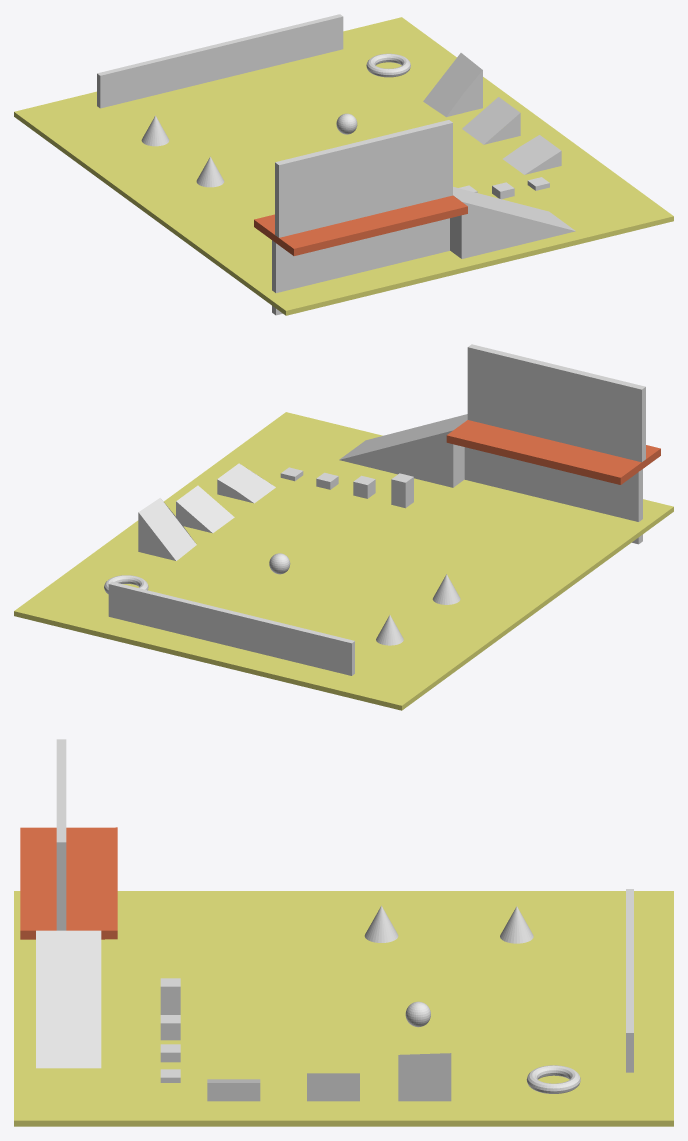
File: testingmap1.fbx
The picture shows the model from 3 angles, top to bottom: view 1: azimuth 30°, elevation 25°; view 2: azimuth 150°, elevation 25°; view 3: azimuth 270°, elevation 25°; orthographic projection. The views are drawn at different scales.
Visible parts, largest first — view 1: Cube, Cube.012, Cube.001, Cube.009, Cube.011, Cube.010, Cube.002, Cube.003, Cube.004, Torus, Cone.001, Cone; view 2: Cube, Cube.012, Cube.001, Cube.009, Cube.010, Cube.011, Cube.002, Cube.003, Cube.004, Cube.008; view 3: Cube, Cube.010, Cube.011, Cube.002, Cube.012, Cube.003, Cube.001, Cube.004, Torus, Cube.008, Cone, Cone.001.
Part boxes in pixels (<box>): Cube: <box>14,17,673,315</box>; Cube.012: <box>275,120,452,237</box>; Cube.001: <box>97,14,343,108</box>; Cube.009: <box>272,218,449,315</box>; Cube.011: <box>450,187,575,258</box>; Cube.010: <box>254,195,467,255</box>; Cube.002: <box>423,53,482,117</box>; Cube.003: <box>462,97,520,144</box>; Cube.004: <box>503,135,561,174</box>; Torus: <box>366,53,410,77</box>; Cone.001: <box>196,156,224,187</box>; Cone: <box>141,115,169,146</box>; Cube: <box>14,412,673,710</box>; Cube.012: <box>467,344,645,462</box>; Cube.001: <box>108,581,354,675</box>; Cube.009: <box>464,447,642,544</box>; Cube.010: <box>446,420,660,484</box>; Cube.011: <box>339,414,467,487</box>; Cube.002: <box>138,498,196,560</box>; Cube.003: <box>176,485,234,533</box>; Cube.004: <box>217,463,275,503</box>; Cube.008: <box>391,473,413,508</box>; Cube: <box>14,891,673,1126</box>; Cube.010: <box>20,827,117,939</box>; Cube.011: <box>36,930,101,1068</box>; Cube.002: <box>398,1053,451,1101</box>; Cube.012: <box>56,739,66,930</box>; Cube.003: <box>307,1073,359,1101</box>; Cube.001: <box>626,889,633,1072</box>; Cube.004: <box>207,1079,260,1101</box>; Torus: <box>526,1065,580,1093</box>; Cube.008: <box>160,978,180,1014</box>; Cone: <box>500,906,533,943</box>; Cone.001: <box>364,905,398,942</box>.
Bounding box in the file's own units: 5442 × 2044 × 6611.
